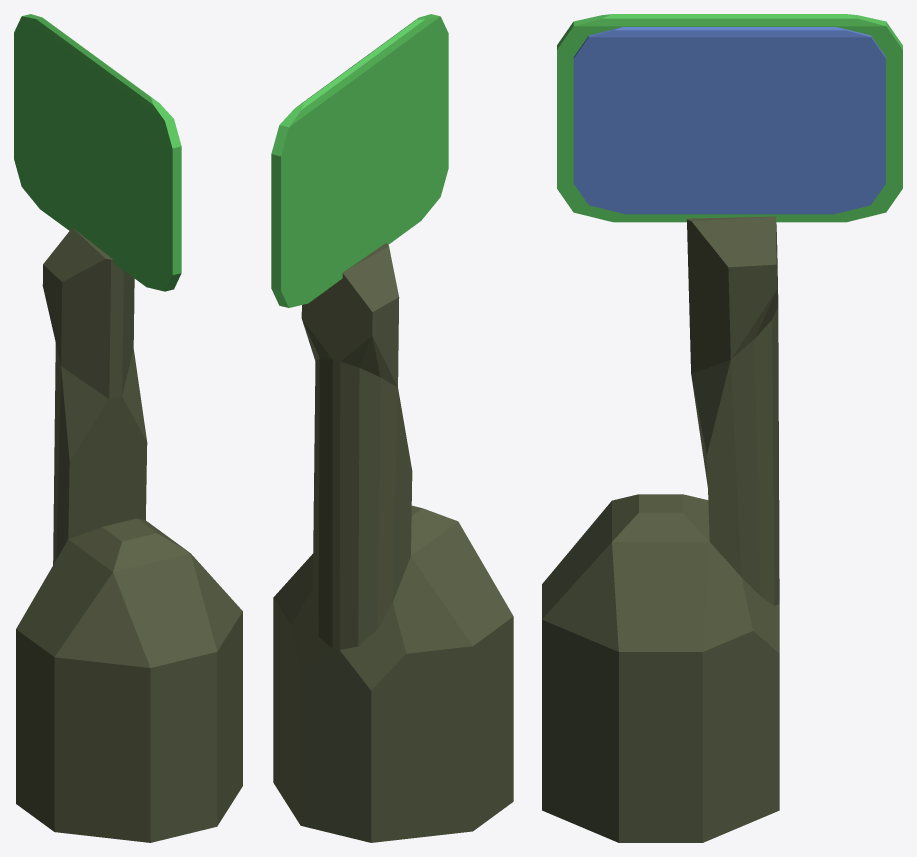
File: table2.fbx
The picture shows the model from 3 angles, left to right: view 1: azimuth 30°, elevation 25°; view 2: azimuth 150°, elevation 25°; view 3: azimuth 270°, elevation 25°; orthographic projection. The views are drawn at different scales.
Parts seen in each view (by area): view 1: table2; view 2: table2; view 3: table2.
Part boxes in pixels (<box>): table2: <box>14,14,242,842</box>; table2: <box>271,14,513,842</box>; table2: <box>542,14,902,842</box>.
Bounding box in the file's own units: 209 × 756 × 317.
